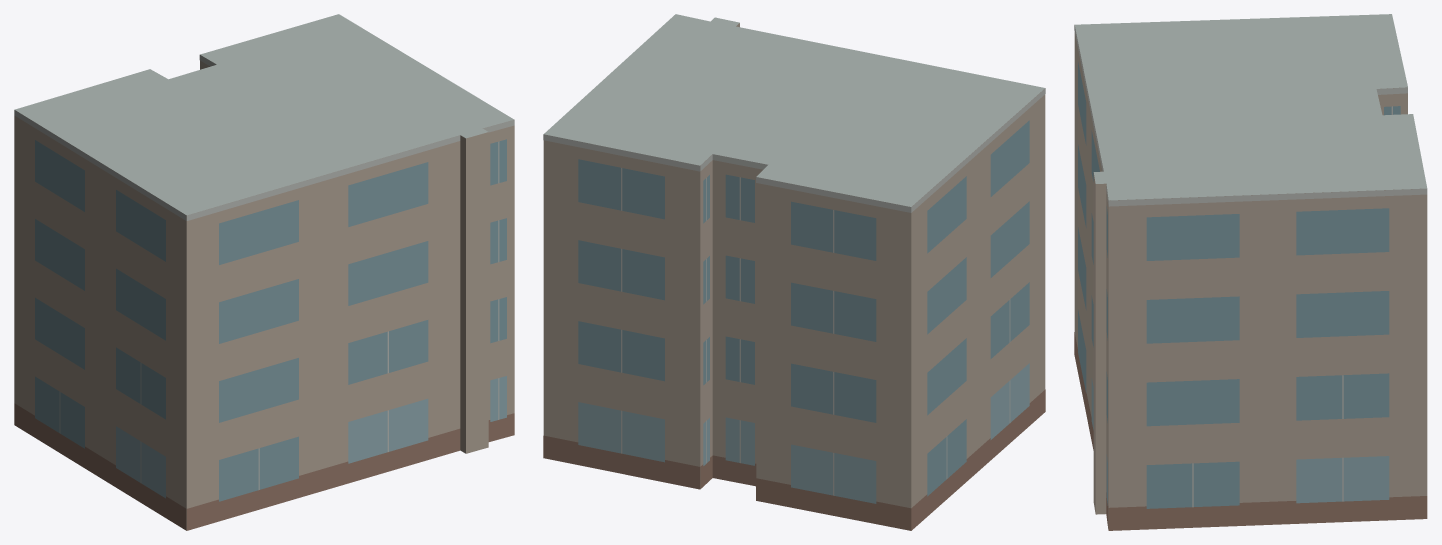
Rendered from survey-upis-32738980.glb.
3 views of the same model, side by side, from view 1: azimuth 30°, elevation 25°; view 2: azimuth 150°, elevation 25°; view 3: azimuth 270°, elevation 25° (orthographic). The views are drawn at different scales.
Visible parts, largest first — view 1: survey-upis-32738980.tmp; view 2: survey-upis-32738980.tmp; view 3: survey-upis-32738980.tmp.
Part boxes in pixels (x1,y1,x2,y2): survey-upis-32738980.tmp: [14, 14, 514, 530]; survey-upis-32738980.tmp: [543, 14, 1045, 530]; survey-upis-32738980.tmp: [1074, 14, 1427, 530].
Size of the model in its own units: 16.11 by 13.3 by 12.88.
